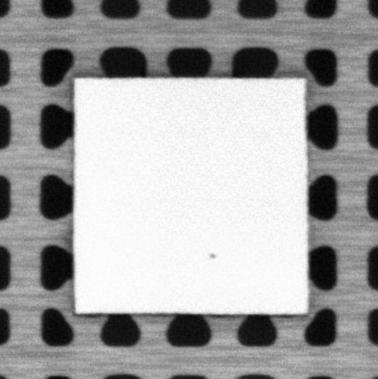DIE_INK: (206, 249, 217, 260)
